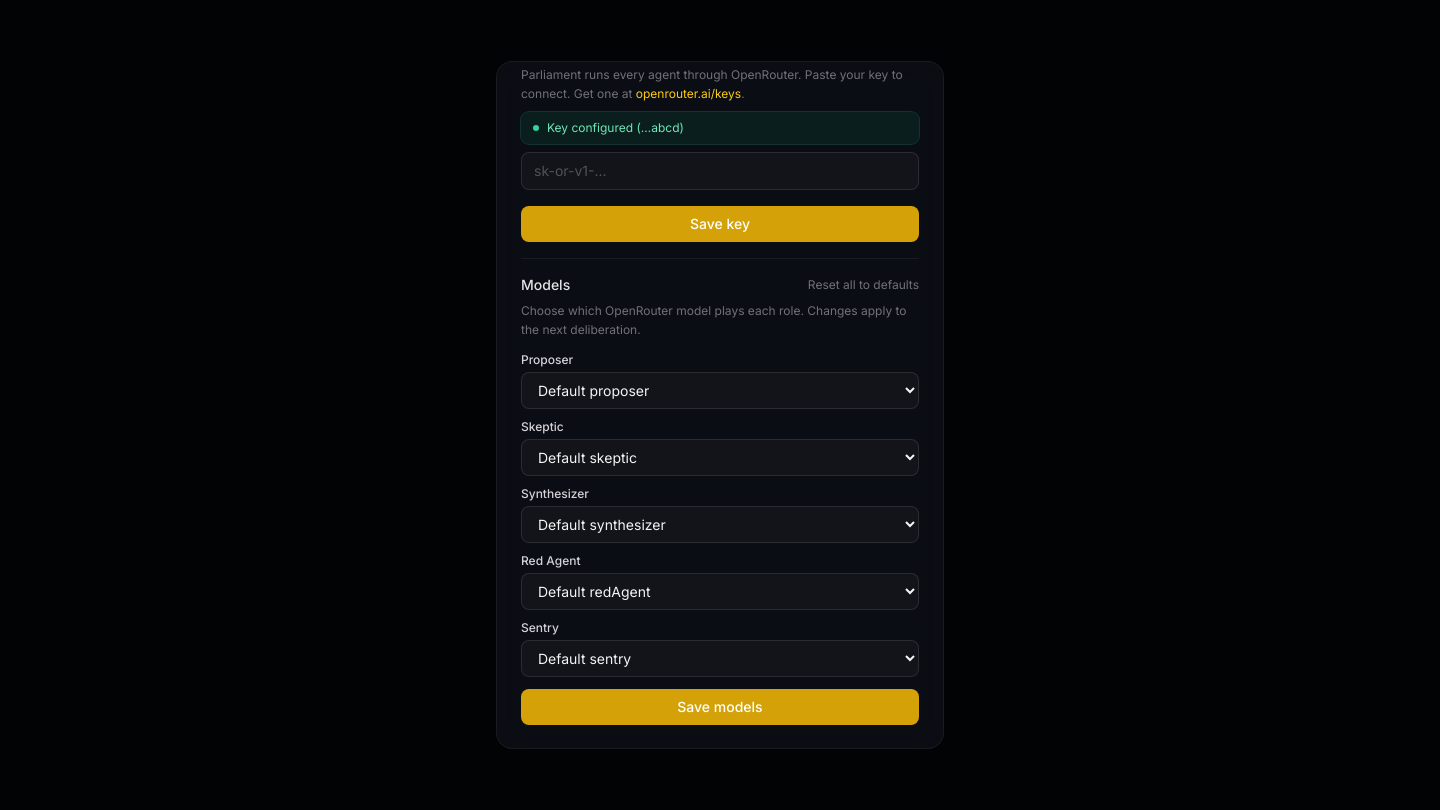
Test: SettingsPanel — Models section › shows an error message when the save fails
(page scrolled)
Expected: the dropdown labelled "Proposer" is shown, [521,372,919,409]
Click the button "Save models" at (720, 707), box [521,689,919,725]
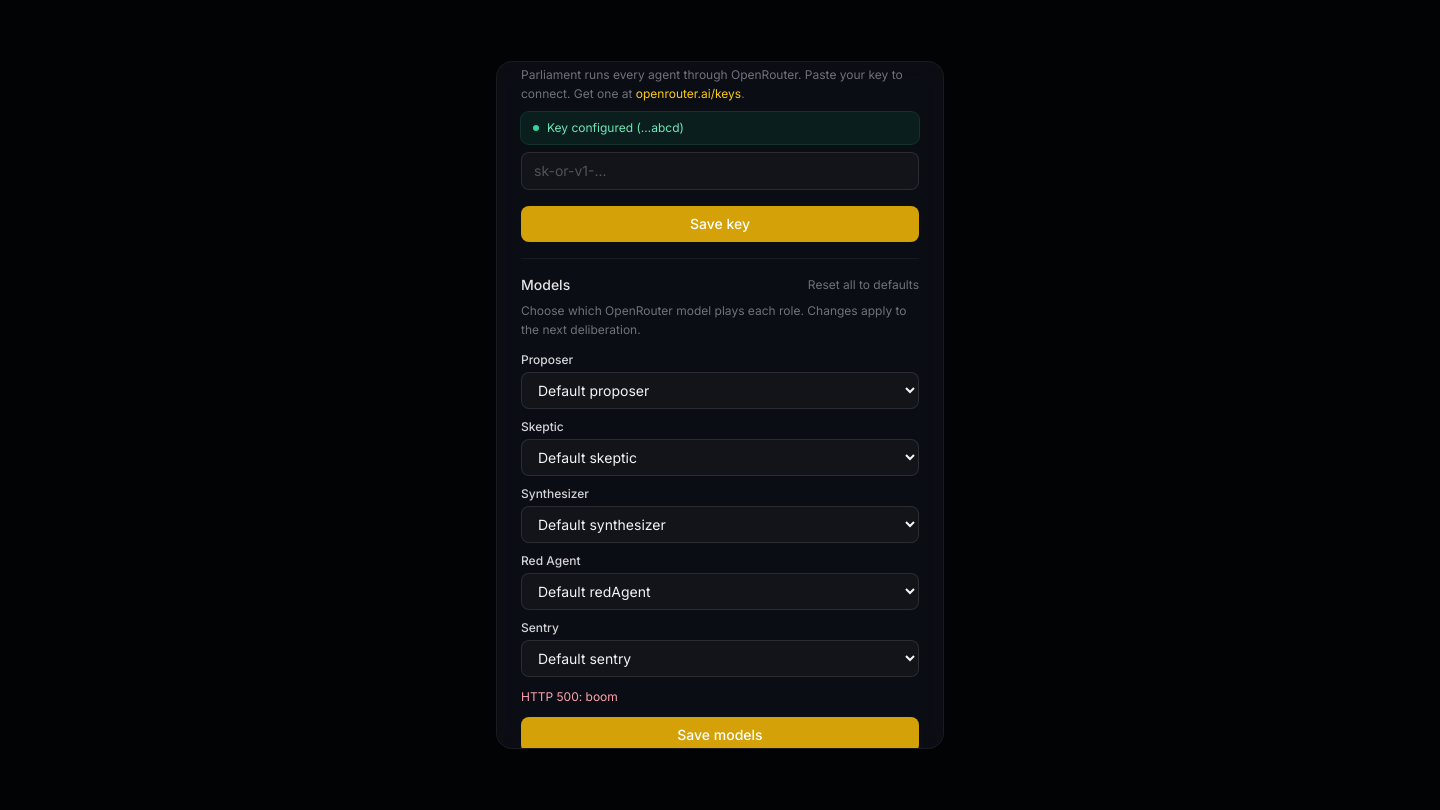
Expected: the message shows "HTTP 500", [521,689,618,704]
